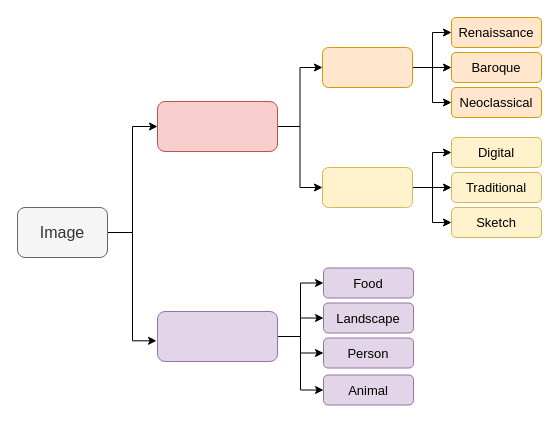
Image size: 559x423. Some labels were removed from this diagram. Each missing label, with the centre of its shape:
Artistic Image: point 217,126
Drawing: point 367,187
Painting: point 367,67
Realistic Image: point 217,336
